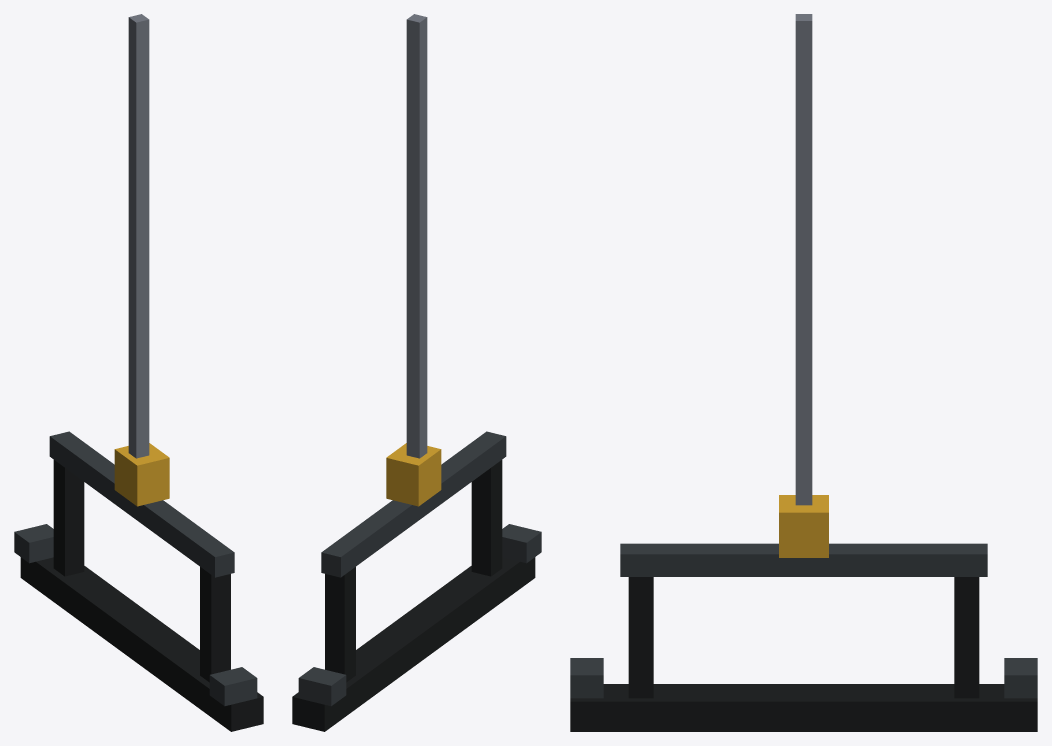
File: tow_truck_sling.glb
The picture shows the model from 3 angles, left to right: view 1: azimuth 30°, elevation 25°; view 2: azimuth 150°, elevation 25°; view 3: azimuth 270°, elevation 25°; orthographic projection. The views are drawn at different scales.
Visible parts, largest first — view 1: body:compound; view 2: body:compound; view 3: body:compound.
Part boxes in pixels (<box>): body:compound: <box>14,14,263,731</box>; body:compound: <box>292,14,541,731</box>; body:compound: <box>570,14,1037,731</box>.
Size of the model in its own units: 0.1875 by 2.91 by 1.75.
